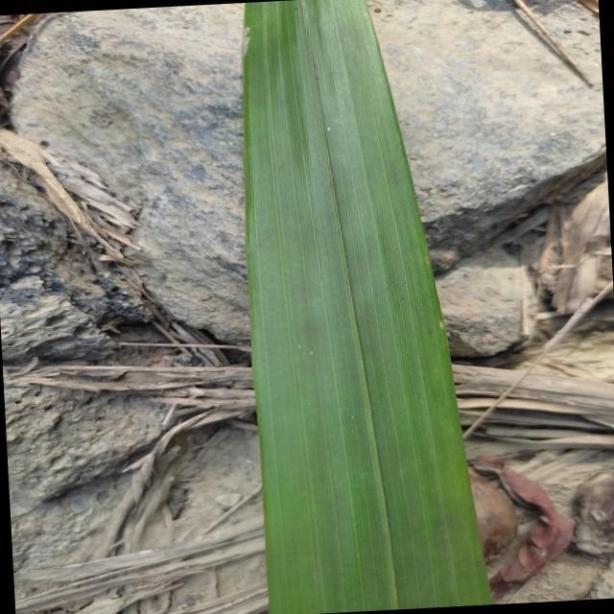Healthy: (248, 0, 488, 612)
